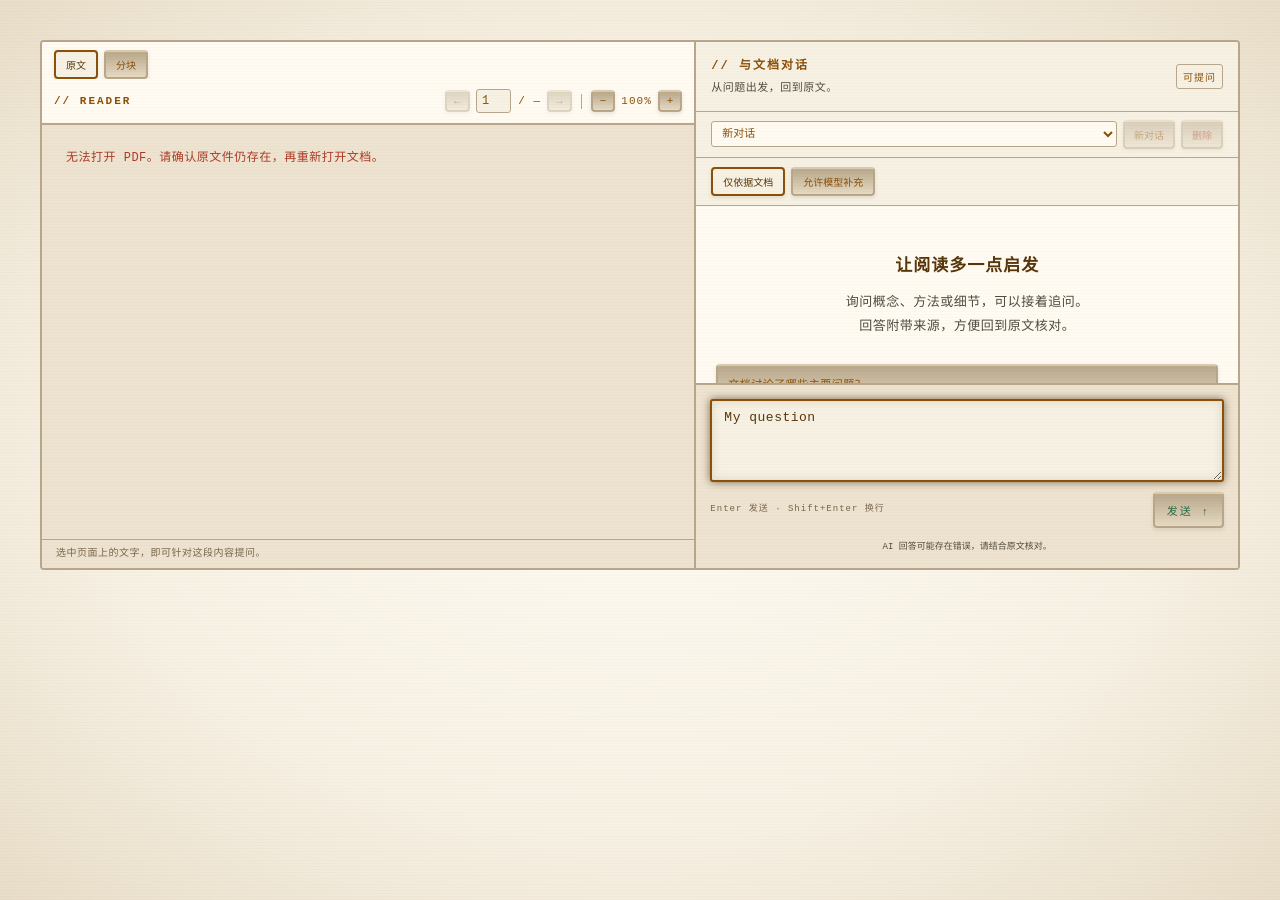
Scenario: preserves input and submission when a status poll refreshes the document
The image size is (1280, 900).
Earlier steps of the test are not shown.
Click the button "发送 ↑" at point(1188, 510), box left=1153, top=492, right=1224, bottom=528
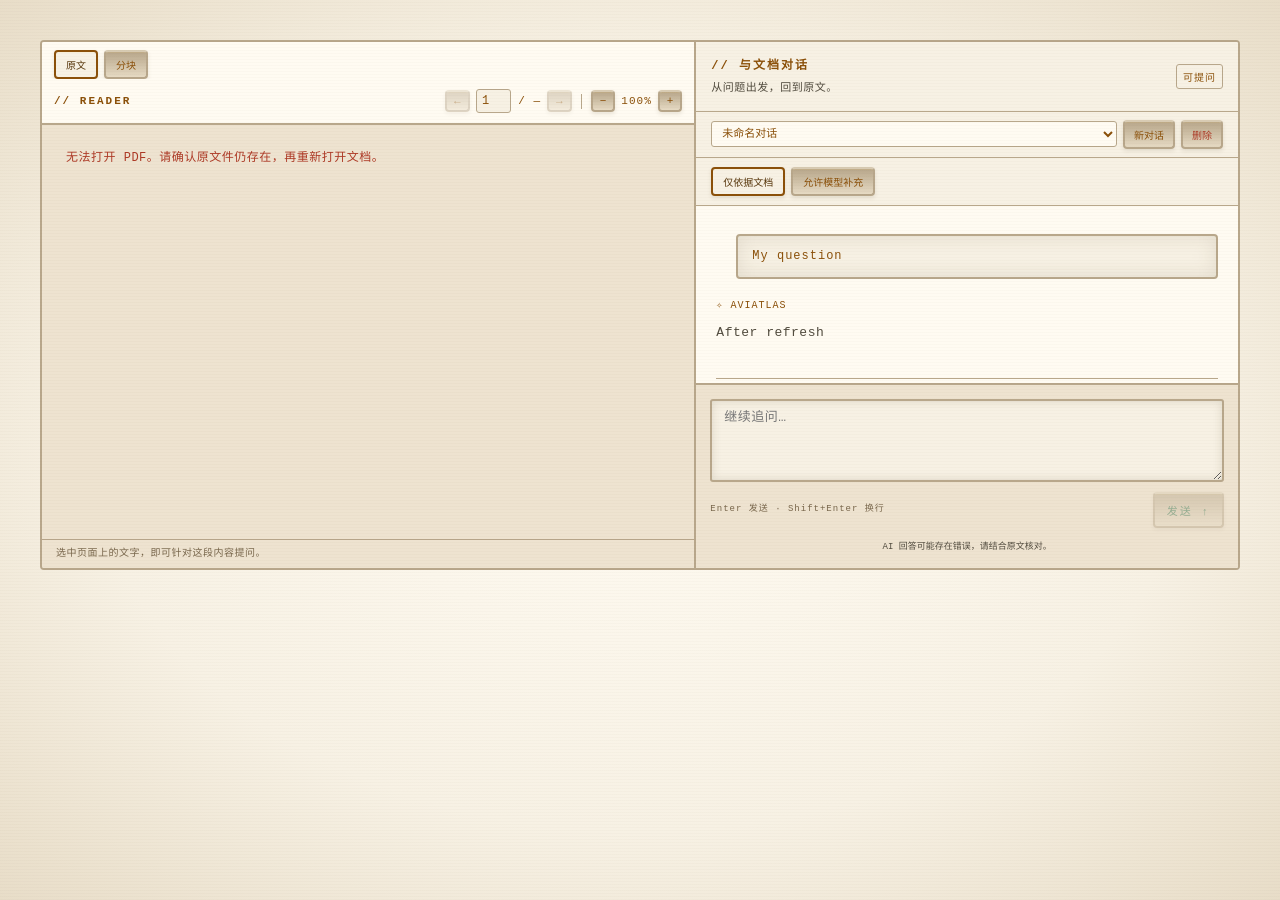
expect the text "After refresh" is shown: met, box left=716, top=325, right=824, bottom=340
